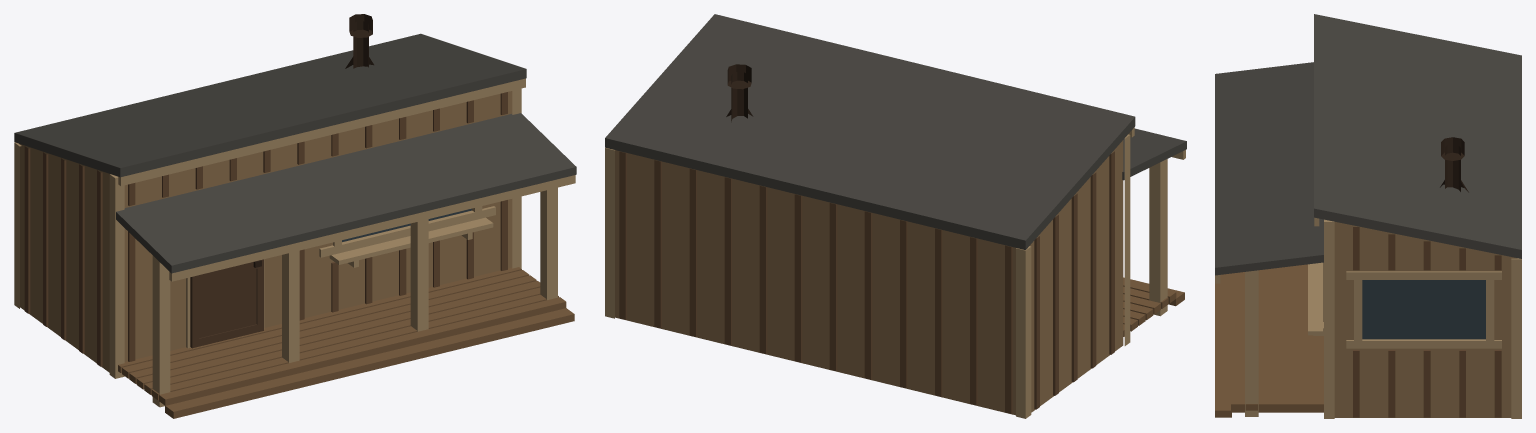
Rendered from ranger-station-ef6407.glb.
3 renders of one model, left to right at view 1: azimuth 30°, elevation 25°; view 2: azimuth 150°, elevation 25°; view 3: azimuth 270°, elevation 25°, orthographic. The views are drawn at different scales.
Parts seen in each view (by area): view 1: station-shell, door-leaf; view 2: station-shell; view 3: station-shell.
Part boxes in pixels (box(x1,y1,x2,y2)): station-shell: box(14, 14, 576, 418); door-leaf: box(190, 259, 263, 348); station-shell: box(605, 14, 1186, 418); station-shell: box(1215, 14, 1521, 418).
Size of the model in its own units: 6 by 3.33 by 4.
